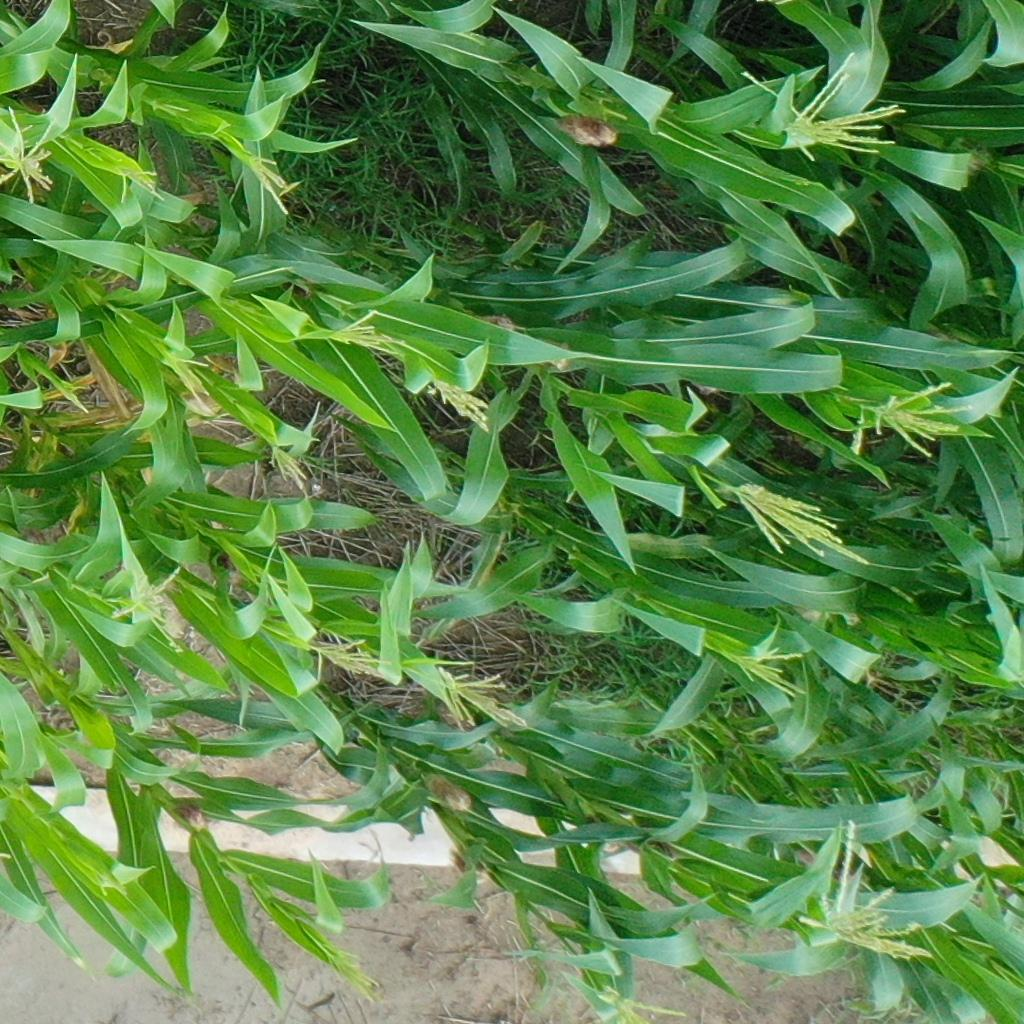Tassel: (799, 818, 937, 969), (738, 51, 912, 156), (725, 478, 871, 576), (868, 379, 974, 462), (433, 660, 529, 734), (104, 566, 185, 652), (1, 105, 63, 207), (727, 644, 810, 700), (328, 308, 409, 360), (307, 638, 393, 684), (243, 148, 299, 218), (325, 944, 383, 1009), (431, 377, 490, 437), (167, 346, 218, 415), (597, 986, 689, 1024), (114, 159, 170, 213), (266, 446, 312, 499)
